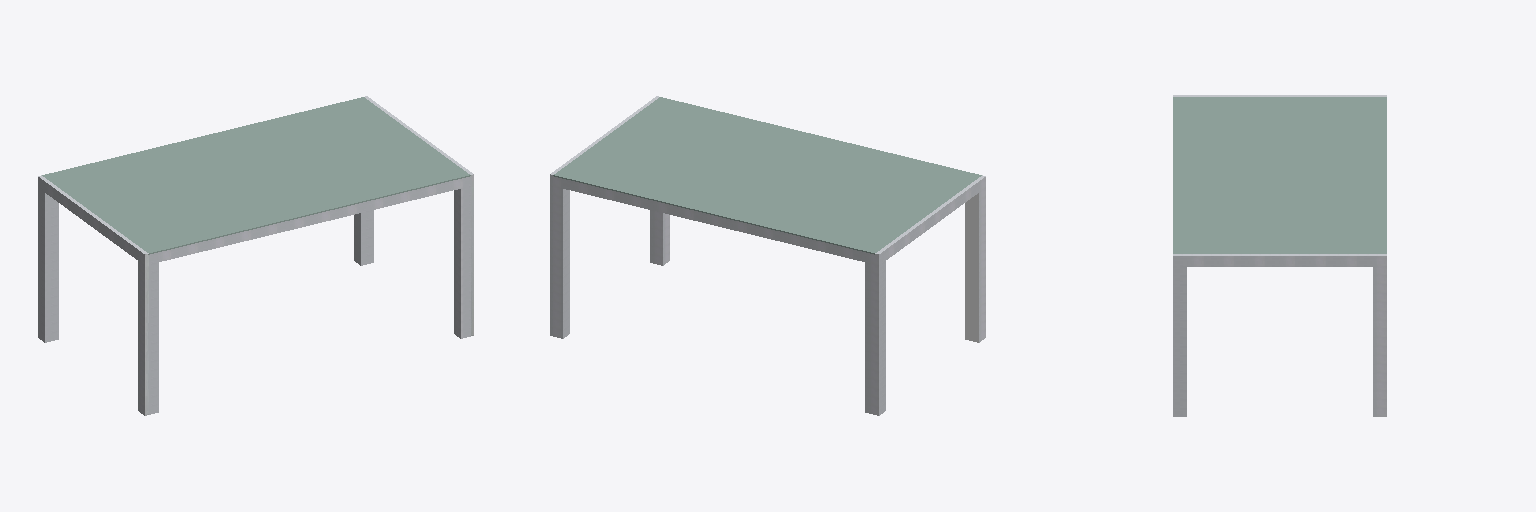
The picture shows the model from 3 angles: view 1: azimuth 30°, elevation 25°; view 2: azimuth 150°, elevation 25°; view 3: azimuth 270°, elevation 25°; orthographic projection.
Parts seen in each view (by area): view 1: Mesh1 Group1 Model, Mesh2 Group2 Model; view 2: Mesh1 Group1 Model, Mesh2 Group2 Model; view 3: Mesh1 Group1 Model, Mesh2 Group2 Model.
Boxes of the visible parts, x1=… form: Mesh1 Group1 Model: x1=42, y1=97, x2=470, y2=254; Mesh2 Group2 Model: x1=38, y1=96, x2=473, y2=415; Mesh1 Group1 Model: x1=553, y1=97, x2=981, y2=254; Mesh2 Group2 Model: x1=550, y1=96, x2=985, y2=415; Mesh1 Group1 Model: x1=1173, y1=97, x2=1386, y2=253; Mesh2 Group2 Model: x1=1173, y1=95, x2=1386, y2=416.
Size of the model in its own units: 160 by 75 by 90.
8 materials, 6 textured.